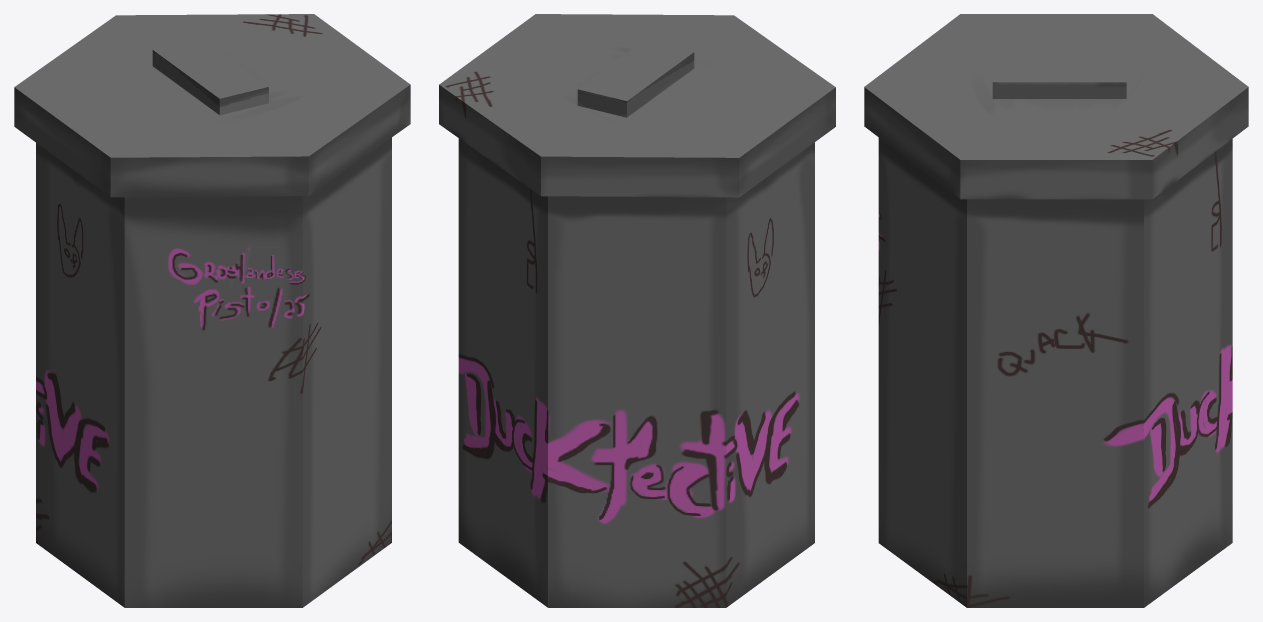
File: lata de lixocomgraffiti.fbx
3 renders of one model, left to right at view 1: azimuth 30°, elevation 25°; view 2: azimuth 150°, elevation 25°; view 3: azimuth 270°, elevation 25°, orthographic.
Visible parts, largest first — view 1: Cilindro; view 2: Cilindro; view 3: Cilindro.
Boxes of the visible parts, x1=… form: Cilindro: x1=14, y1=14, x2=410, y2=607; Cilindro: x1=439, y1=14, x2=835, y2=607; Cilindro: x1=864, y1=14, x2=1248, y2=607.
Size of the model in its own units: 258 by 390 by 288.
